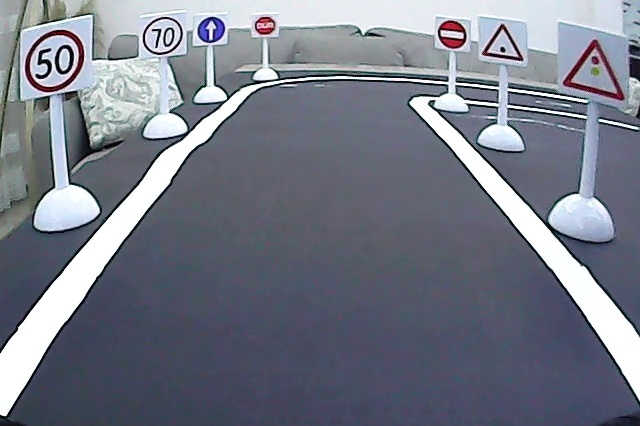do not enter: (435, 18, 470, 51)
green light: (479, 20, 527, 64)
red light: (559, 36, 629, 105)
speed limit 50: (22, 26, 87, 95)
speed limit 70: (141, 15, 185, 57)
stop sign: (253, 14, 278, 37)
